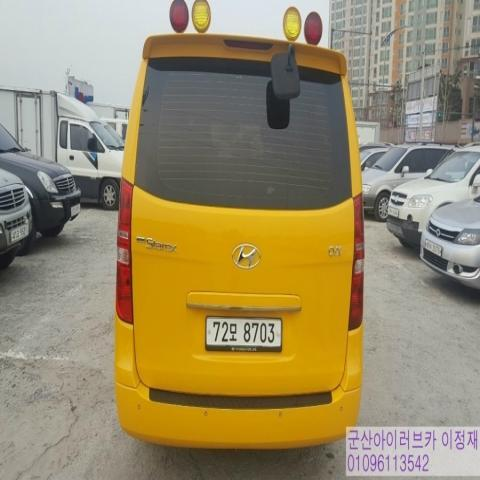LP: (204, 311, 284, 356)
